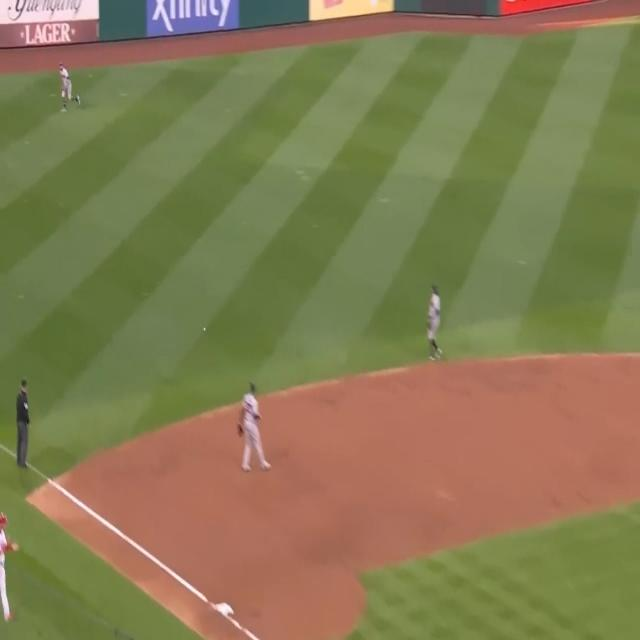baseball: (203, 326, 206, 332)
